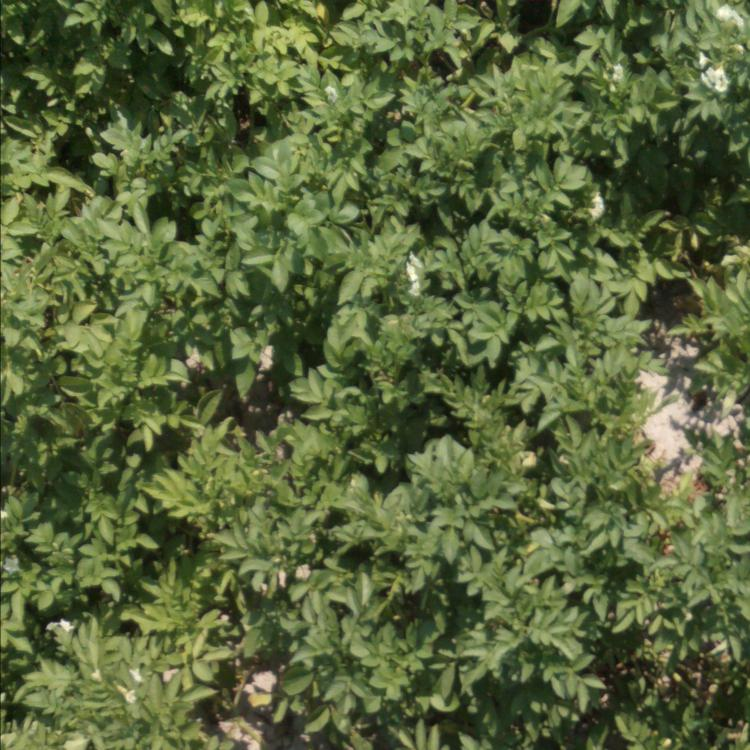healthy: (7, 1, 747, 350), (357, 356, 750, 745), (1, 349, 341, 750)
